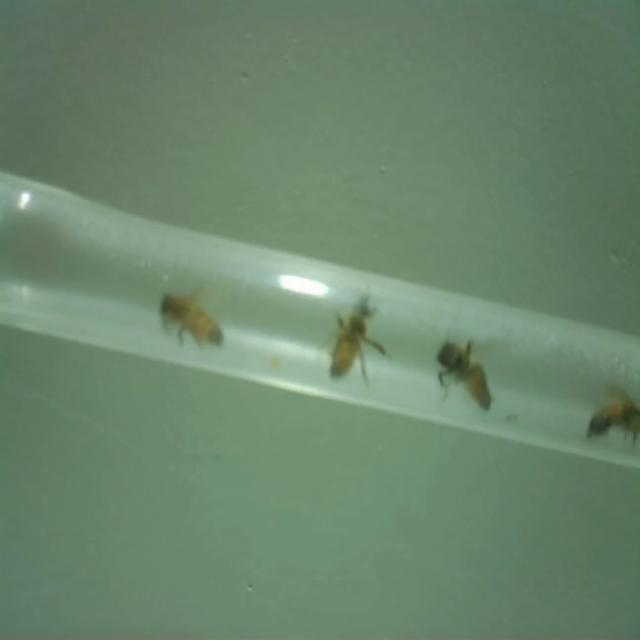Honeybee-Detection: (330, 294, 390, 387), (158, 282, 227, 356), (435, 334, 494, 411), (586, 384, 640, 447)
